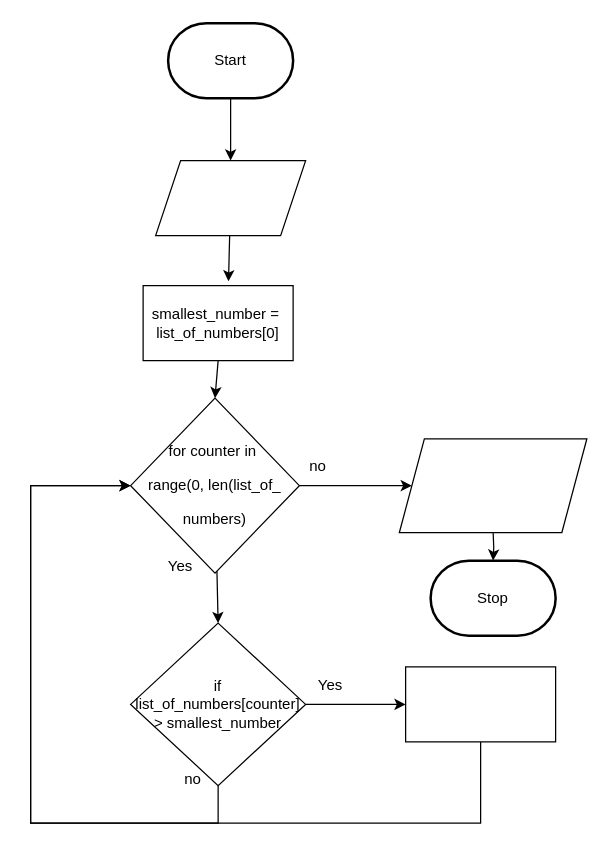
Some shapes in this 609 by 855 pixel diagram are drawn without their labels. The shapes that lost their labels are listed below. From the top down, each one's centre as x and y in pixels, then its label:
At pixel 230 197: "get list_of_numbers".
At pixel 492 485: "return smallest number".
At pixel 480 704: "smallest_number = list_of_numbers[counte]'".
